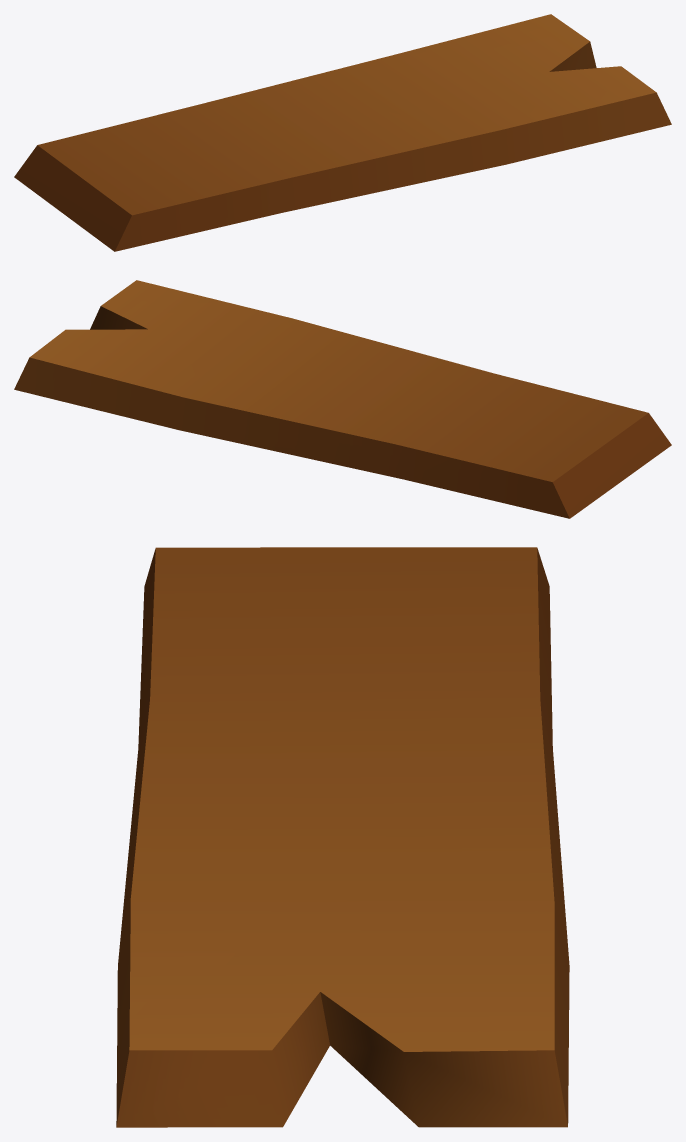
File: plank.fbx
The picture shows the model from 3 angles, top to bottom: view 1: azimuth 30°, elevation 25°; view 2: azimuth 150°, elevation 25°; view 3: azimuth 270°, elevation 25°; orthographic projection. The views are drawn at different scales.
Visible parts, largest first — view 1: plank; view 2: plank; view 3: plank.
Boxes of the visible parts, x1,y1,x2,y2 form: plank: [14, 14, 671, 251]; plank: [14, 280, 671, 518]; plank: [116, 547, 569, 1127].
Size of the model in its own units: 0.8462 by 0.0486 by 0.3013.
